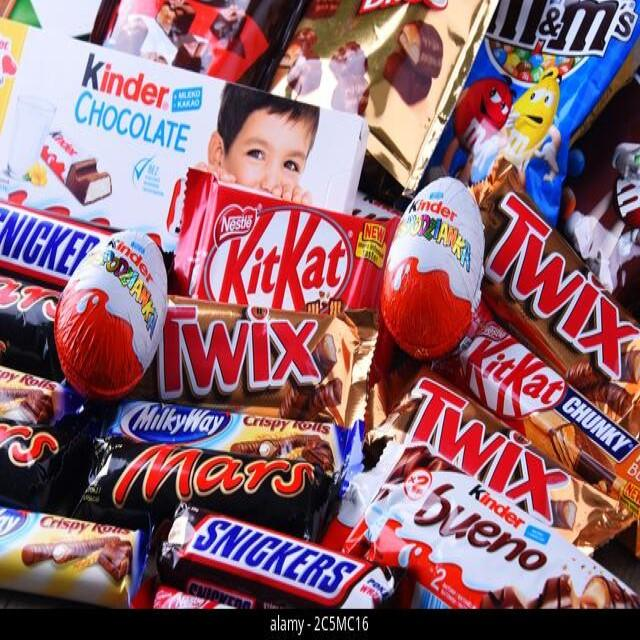kitkat_chocolate: (192, 170, 385, 318), (466, 305, 612, 452)
mars_chocolate: (105, 446, 343, 516)
snickers_chocolate: (173, 497, 372, 613)
